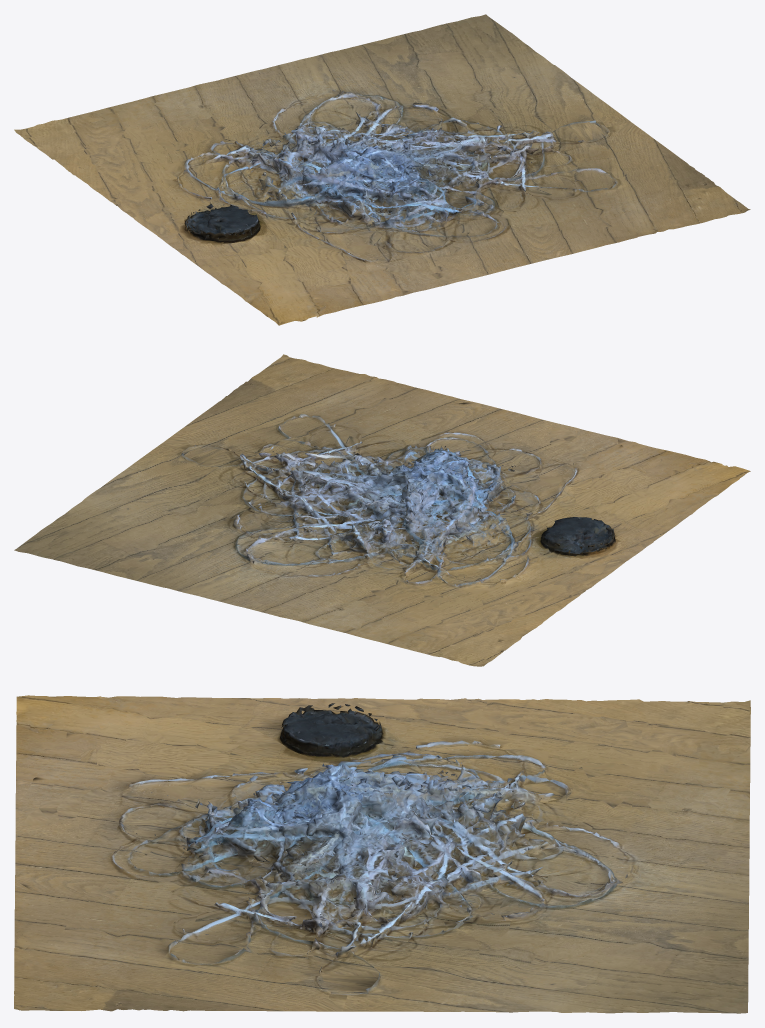
The model's file is gutya.fbx.
3 renders of one model, top to bottom at view 1: azimuth 30°, elevation 25°; view 2: azimuth 150°, elevation 25°; view 3: azimuth 270°, elevation 25°, orthographic. The views are drawn at different scales.
Visible parts, largest first — view 1: gutya; view 2: gutya; view 3: gutya.
Boxes of the visible parts, x1,y1,x2,y2 form: gutya: (14, 14, 750, 325); gutya: (14, 354, 750, 666); gutya: (14, 695, 750, 1013).
Size of the model in its own units: 1422 by 124 by 1398.
